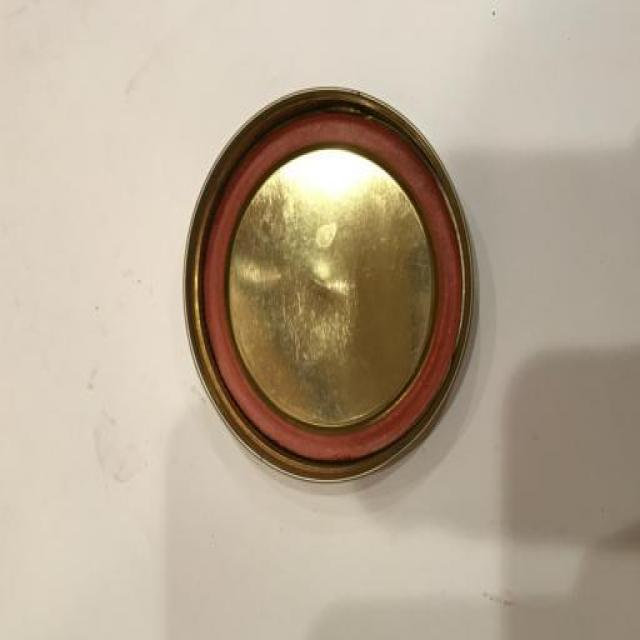metel: (179, 88, 504, 502)
